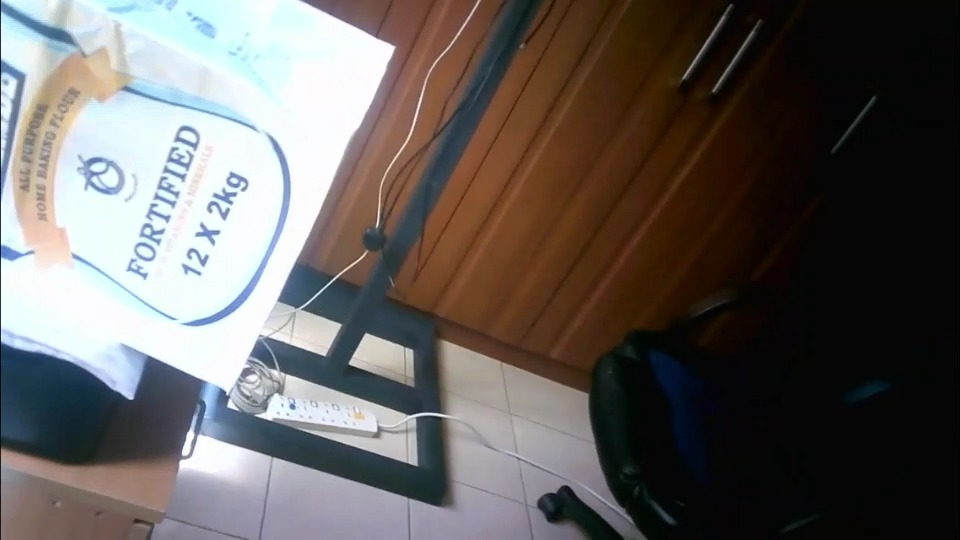wheat_flour_blue_label: (2, 0, 394, 392)
